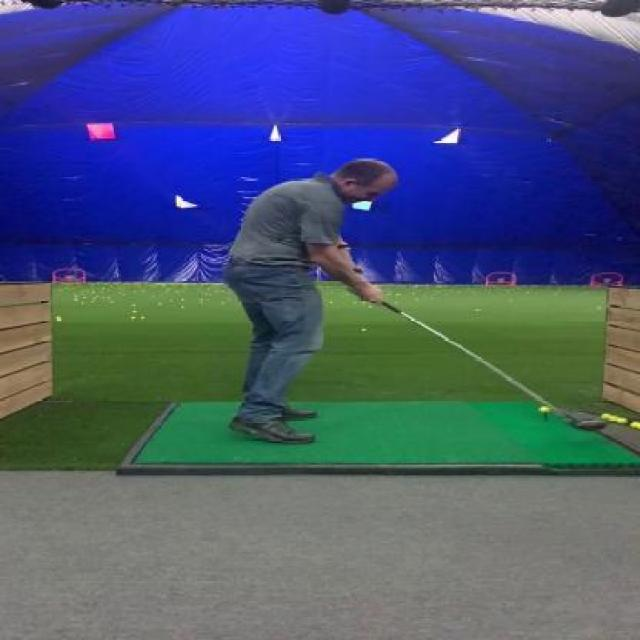club head: (562, 413, 613, 433)
